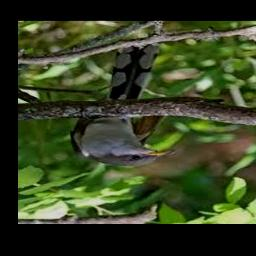Cuckoo: (70, 44, 176, 167)
